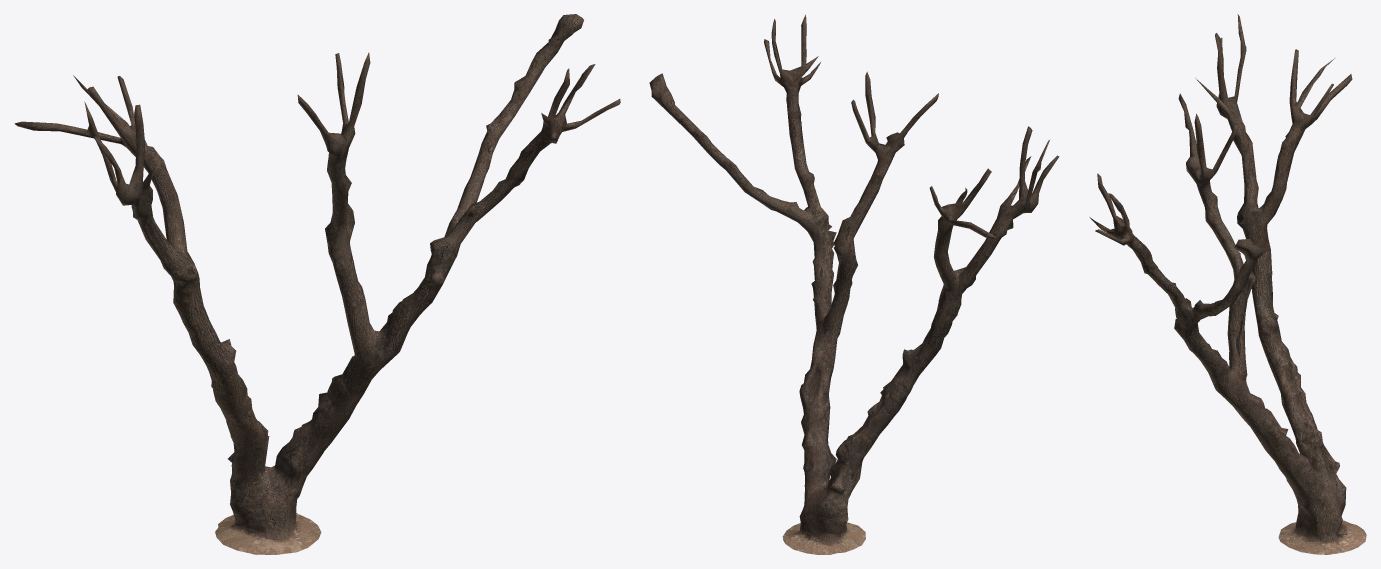
Rendered from pruned_c.glb.
3 views of the same model, side by side, from view 1: azimuth 30°, elevation 25°; view 2: azimuth 150°, elevation 25°; view 3: azimuth 270°, elevation 25° (orthographic). The views are drawn at different scales.
Parts seen in each view (by area): view 1: prunedC_S_Pruned_Tree_vdeled3va_lod3_Var3_LOD0; view 2: prunedC_S_Pruned_Tree_vdeled3va_lod3_Var3_LOD0; view 3: prunedC_S_Pruned_Tree_vdeled3va_lod3_Var3_LOD0.
Boxes of the visible parts, x1=… form: prunedC_S_Pruned_Tree_vdeled3va_lod3_Var3_LOD0: x1=14, y1=14, x2=620, y2=554; prunedC_S_Pruned_Tree_vdeled3va_lod3_Var3_LOD0: x1=649, y1=14, x2=1059, y2=554; prunedC_S_Pruned_Tree_vdeled3va_lod3_Var3_LOD0: x1=1089, y1=14, x2=1366, y2=554.
Size of the model in its own units: 7.89 by 7.98 by 4.65.
1 material, 1 textured.
